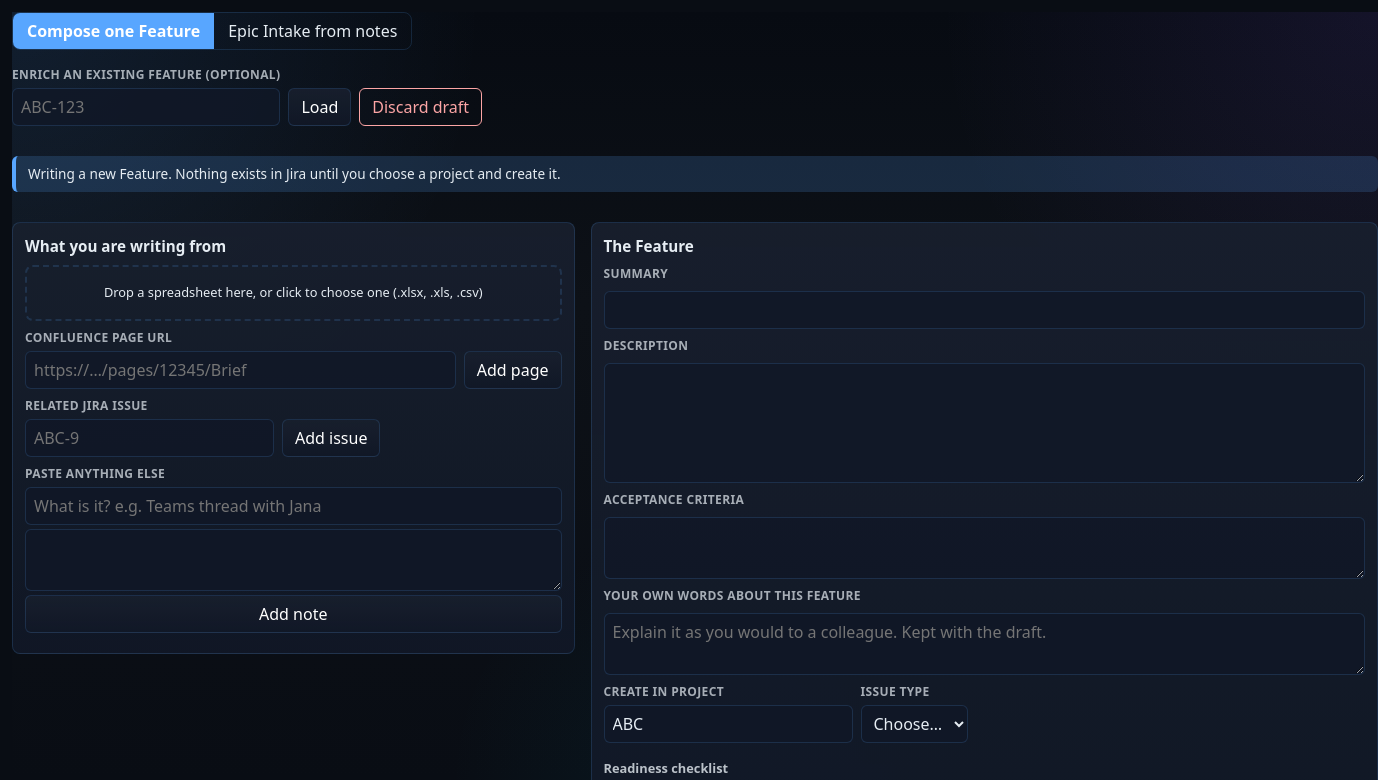
it: Feature Composition mode switch › opens in compose mode, shows the intake on switch, and keeps the Feature draft on the way back
Type "Claimant document submission" into the field labelled "Summary" at (984, 310), box [604,291,1365,329]
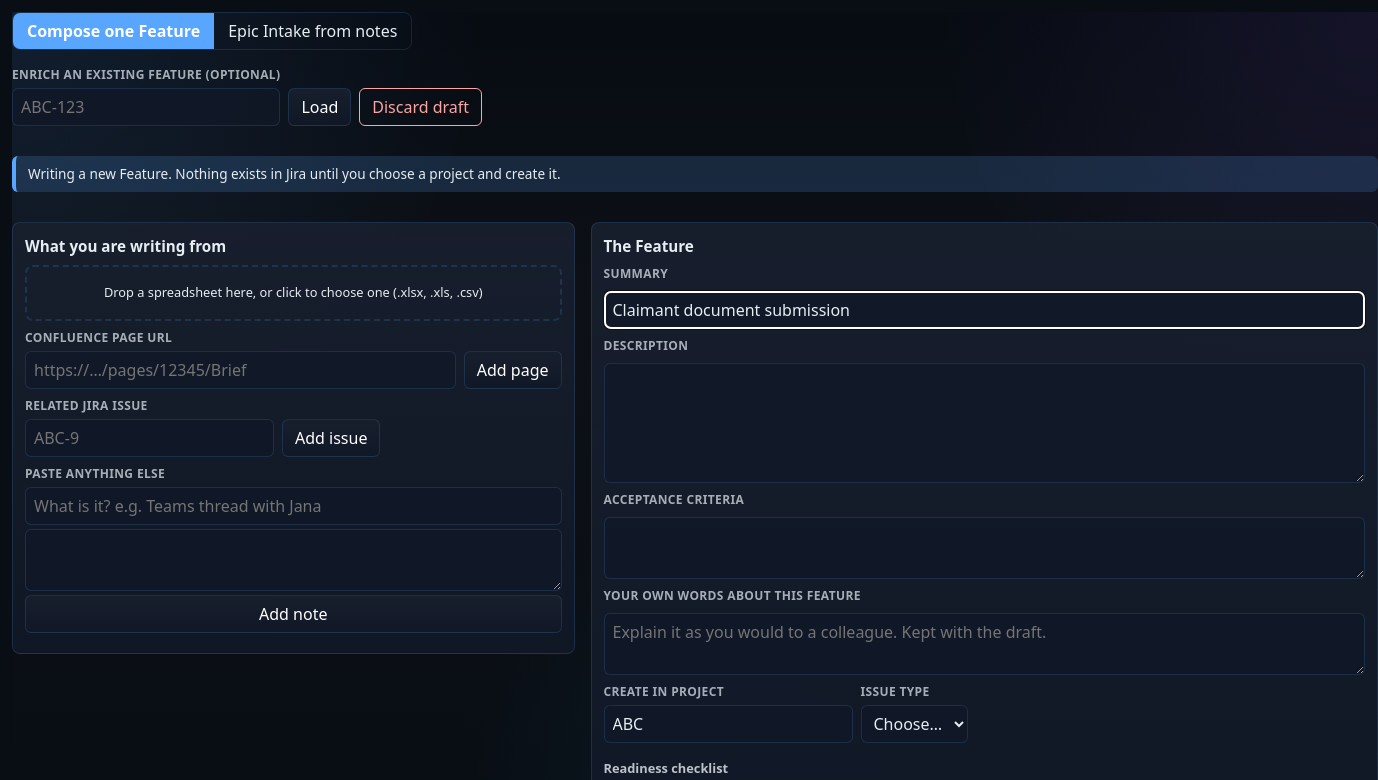
Click the radio button labelled "Epic Intake from notes" at (313, 31), box [214,13,411,49]
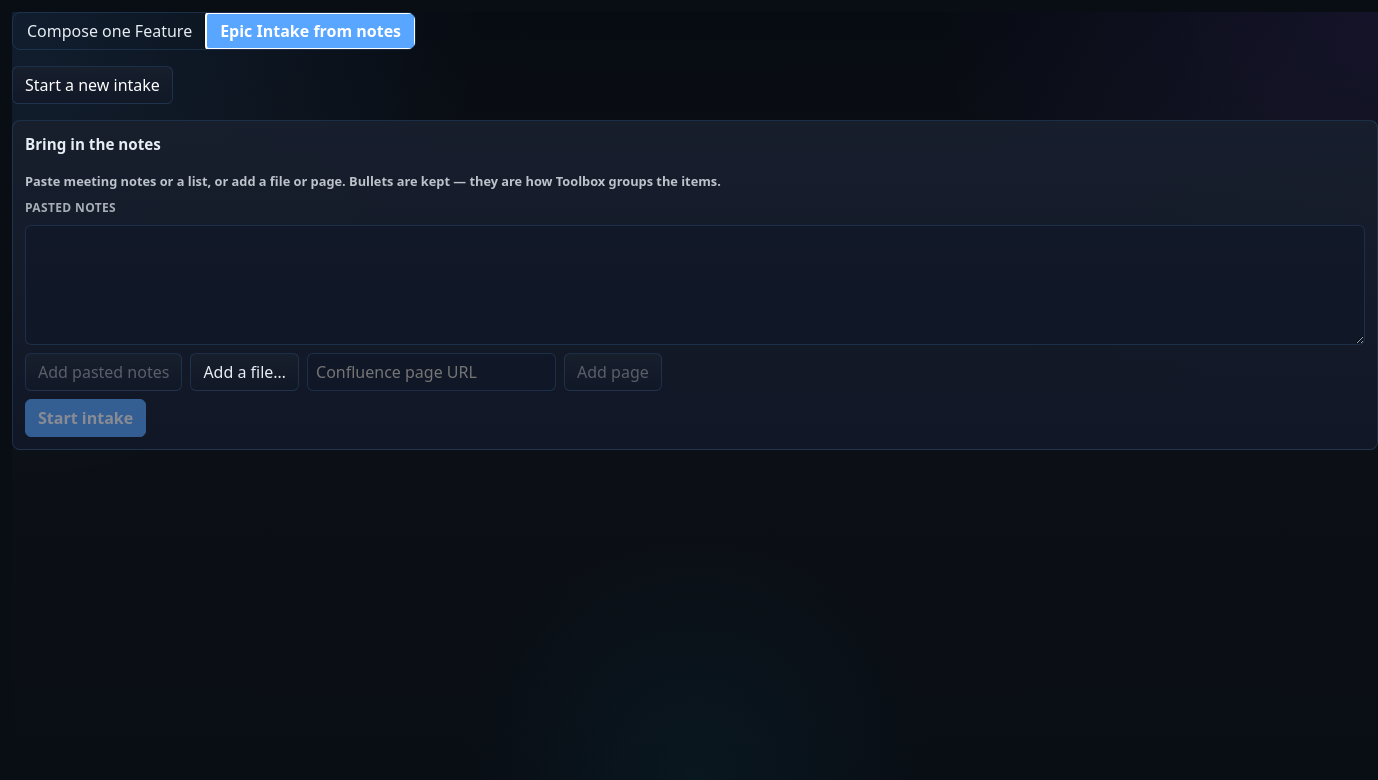
Result: the label labelled "Summary" is gone
Result: the button "Start intake" is shown at [25,399,146,437]
Click the radio button labelled "Compose one Feature" at (110, 31), box [13,13,206,49]
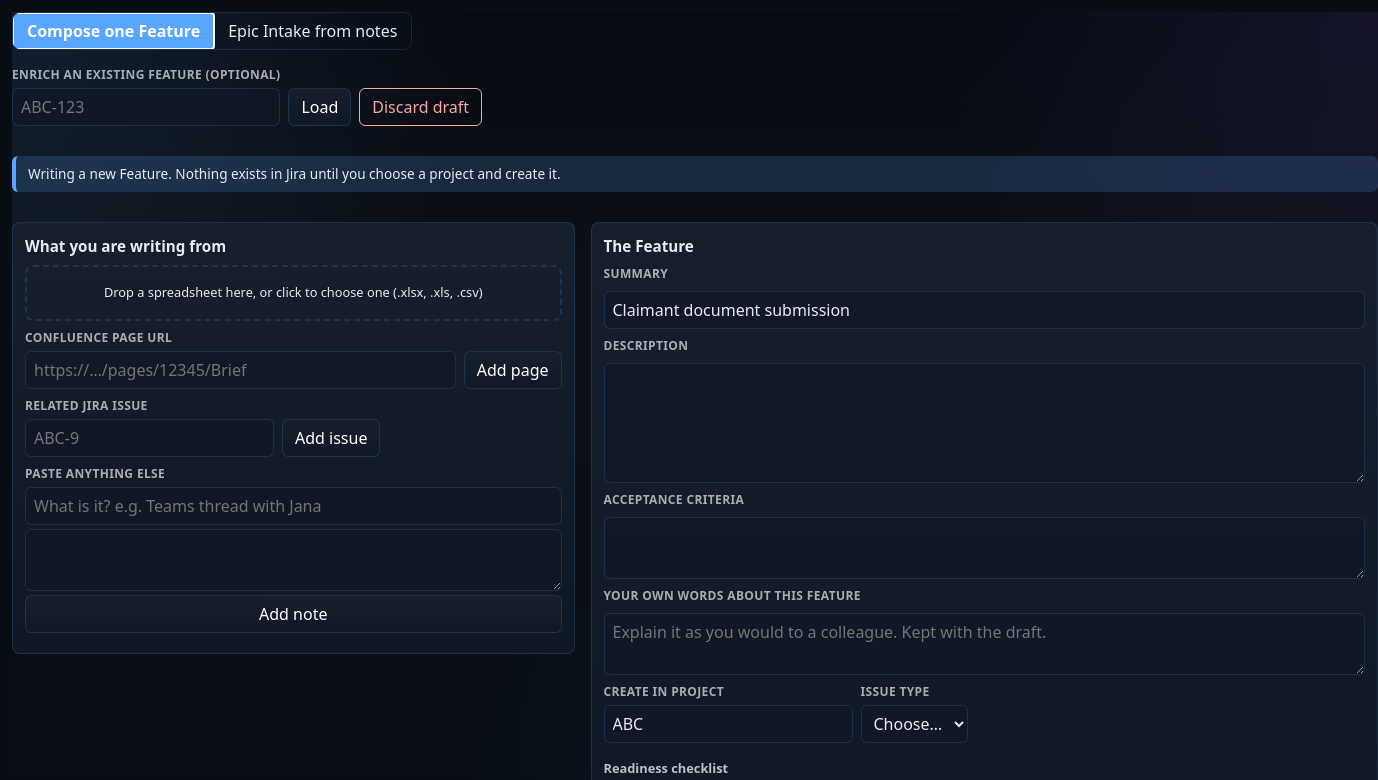
Result: the field labelled "Summary" holds "Claimant document submission" at [604,291,1365,329]
